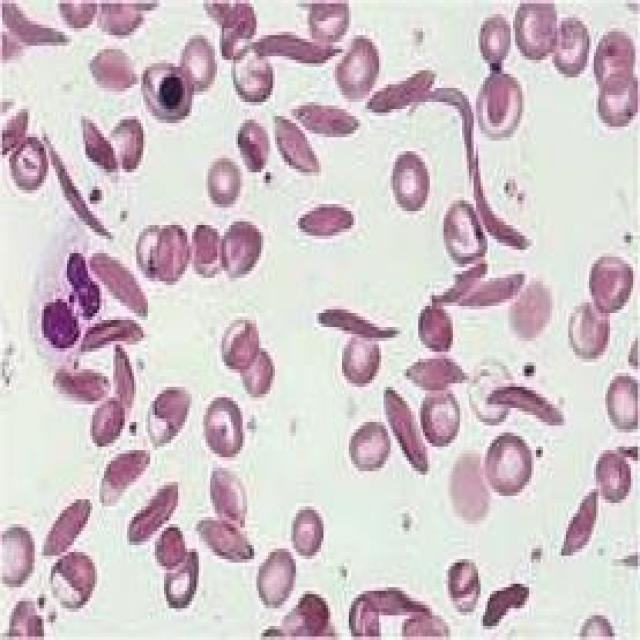RBC: (330, 32, 386, 116), (506, 270, 559, 352), (46, 542, 100, 616), (252, 542, 305, 616), (481, 429, 534, 503), (215, 221, 268, 292), (545, 10, 594, 84), (344, 415, 393, 489), (386, 151, 432, 225), (190, 214, 233, 292), (508, 0, 561, 63), (566, 299, 615, 366), (194, 514, 257, 566), (201, 394, 247, 464), (340, 334, 388, 401), (587, 250, 635, 316), (592, 28, 636, 99), (217, 313, 266, 376), (420, 387, 464, 457), (153, 214, 194, 288), (589, 443, 633, 510), (176, 35, 222, 99), (592, 74, 638, 137), (296, 197, 358, 243), (472, 10, 516, 74), (203, 151, 245, 218), (287, 499, 328, 563), (90, 394, 127, 457)
WBC: (21, 228, 111, 379)
sickle cell: (37, 127, 118, 246), (469, 144, 531, 253), (420, 81, 480, 172), (247, 28, 344, 74), (312, 303, 400, 348), (483, 383, 568, 429), (362, 70, 443, 116)
